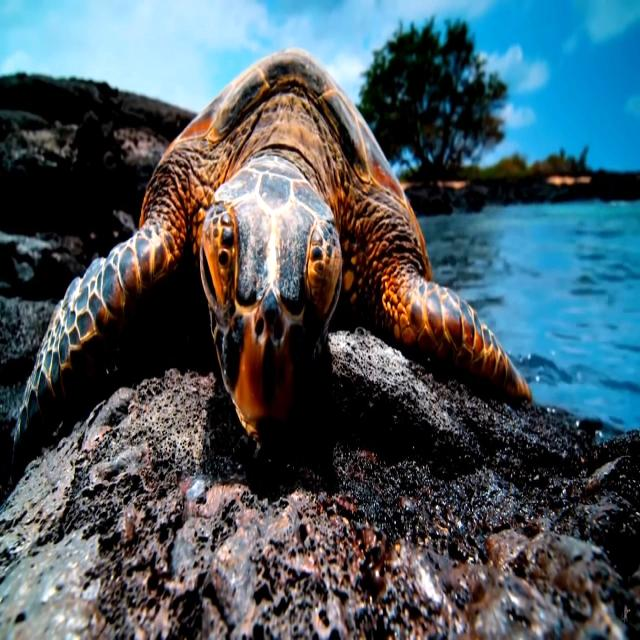Sea turtle: (2, 42, 526, 439)
